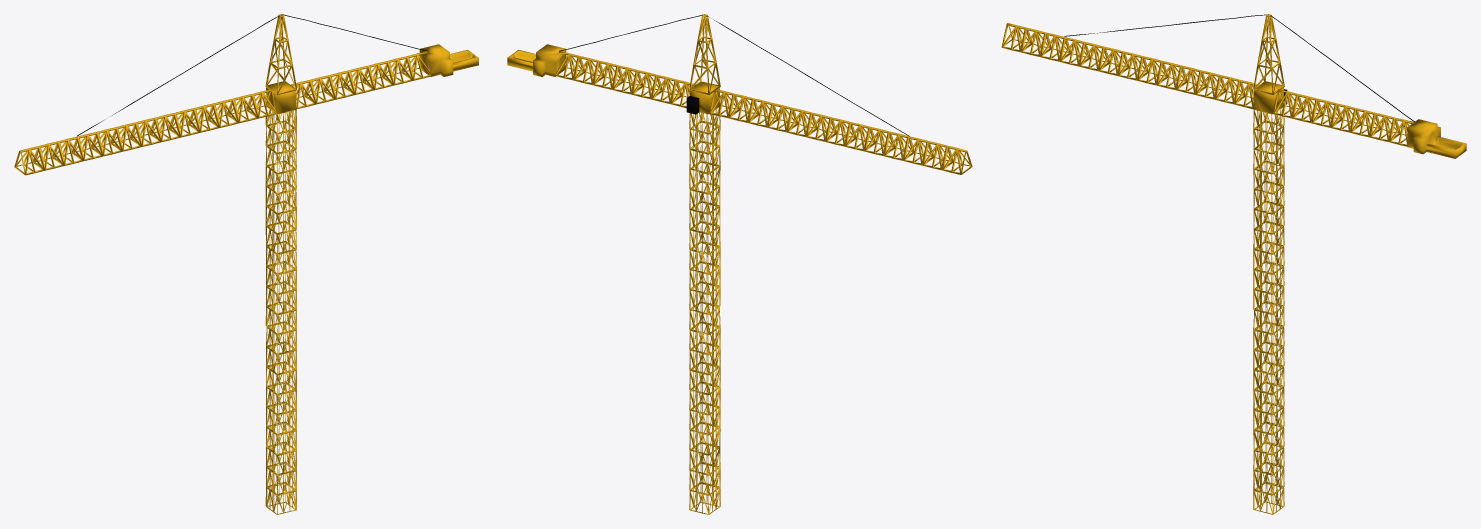
The model's file is Crane.glb.
3 views of the same model, side by side, from view 1: azimuth 30°, elevation 25°; view 2: azimuth 150°, elevation 25°; view 3: azimuth 330°, elevation 25° (orthographic).
Visible parts, largest first — view 1: Cube.002; view 2: Cube.002; view 3: Cube.002.
Part boxes in pixels (left/top/right/bottom): Cube.002: left=14, top=14, right=478, bottom=514; Cube.002: left=507, top=14, right=972, bottom=514; Cube.002: left=1001, top=14, right=1466, bottom=514.
Size of the model in its own units: 236 by 246 by 16.
